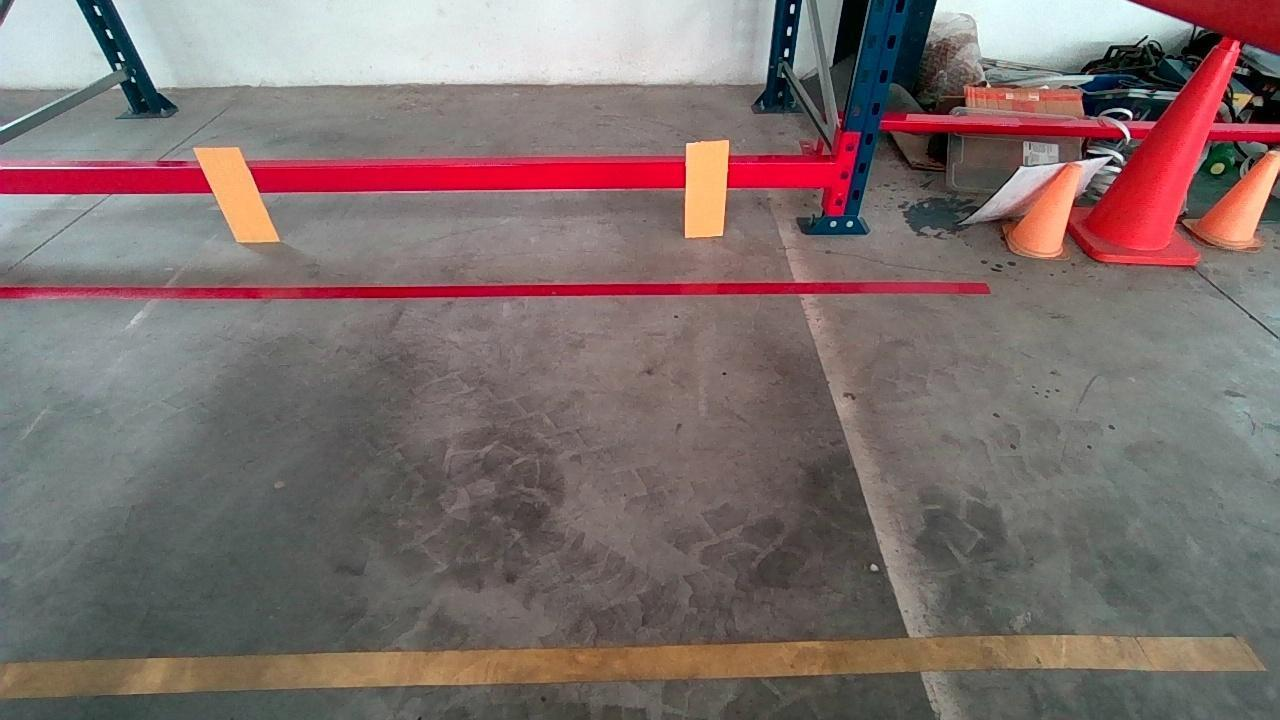h_rack: (7, 159, 844, 201)
orange_strip: (194, 147, 277, 240), (685, 141, 727, 236)
red_line: (12, 273, 978, 305)
yellow_line: (0, 628, 1263, 701)
